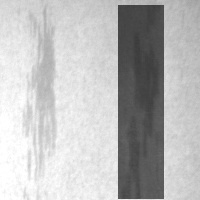inclusion: (118, 5, 164, 199), (21, 2, 60, 184)
